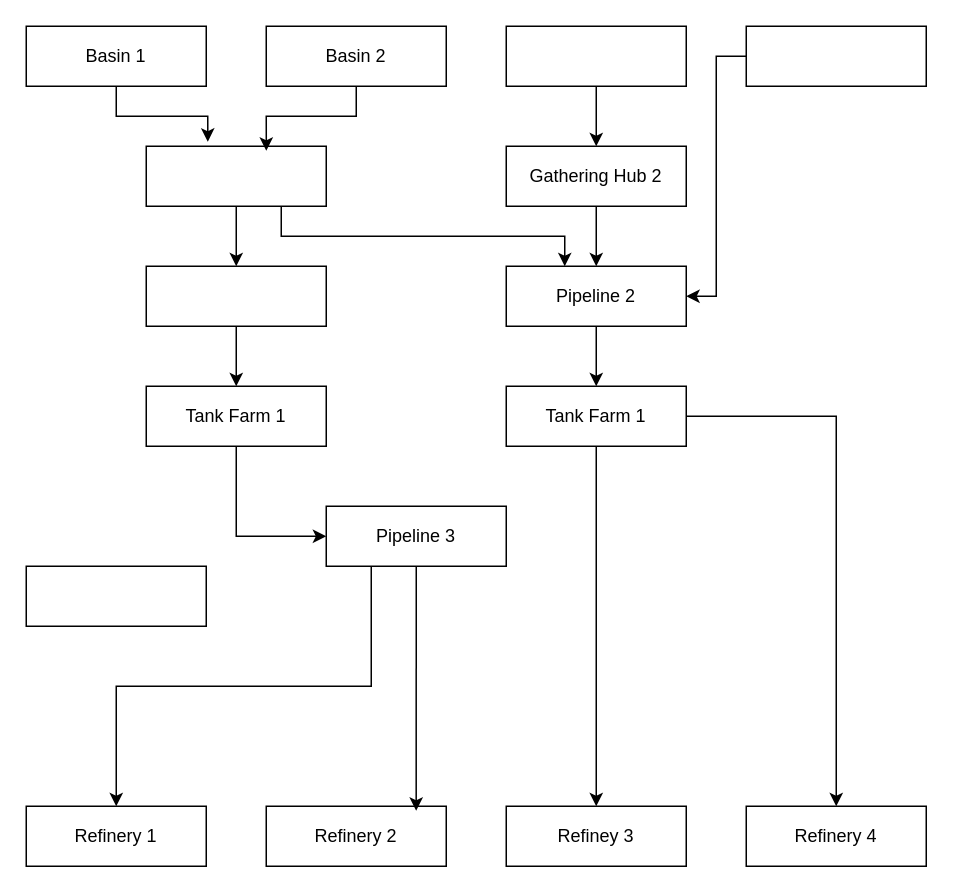
This 953x893 diagram has some shape labels left out. Each missing label, with the centre of its shape:
"Basin 3" belongs at point 595,55.
"Export terminal 2" belongs at point 115,595.
"Gathering Hub 1" belongs at point 235,175.
"Import Terminal 1" belongs at point 835,55.
"Pipeline 1" belongs at point 235,295.
